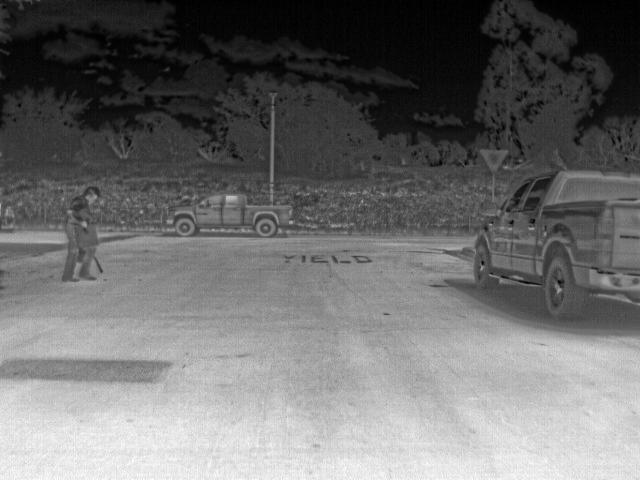car: (473, 169, 639, 319), (164, 191, 297, 239)
person: (65, 186, 100, 280)
